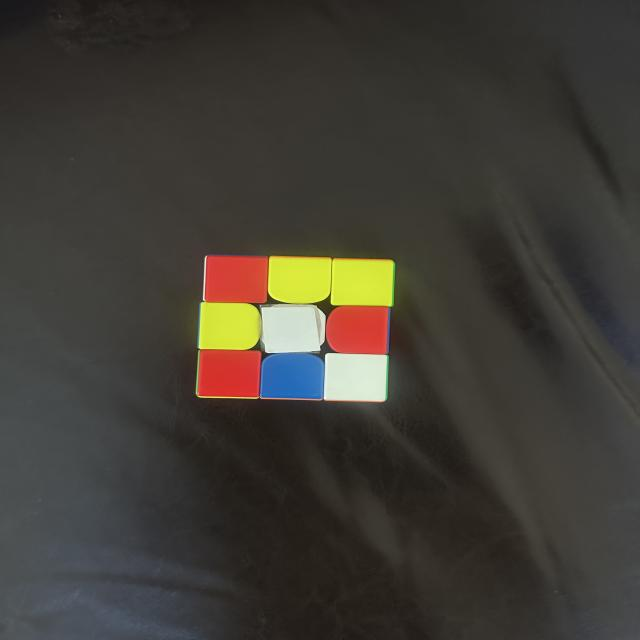sticker: (194, 348, 264, 402), (201, 254, 270, 307), (324, 304, 392, 357), (330, 257, 396, 309), (321, 353, 389, 403), (259, 304, 325, 354), (266, 256, 332, 305), (260, 352, 326, 401), (197, 302, 260, 352)
